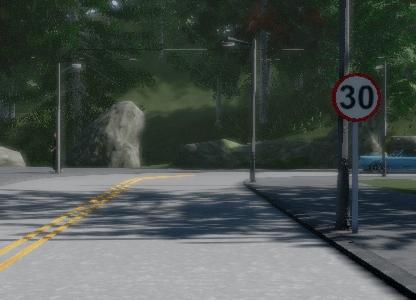Speed_30: (331, 71, 383, 124)
